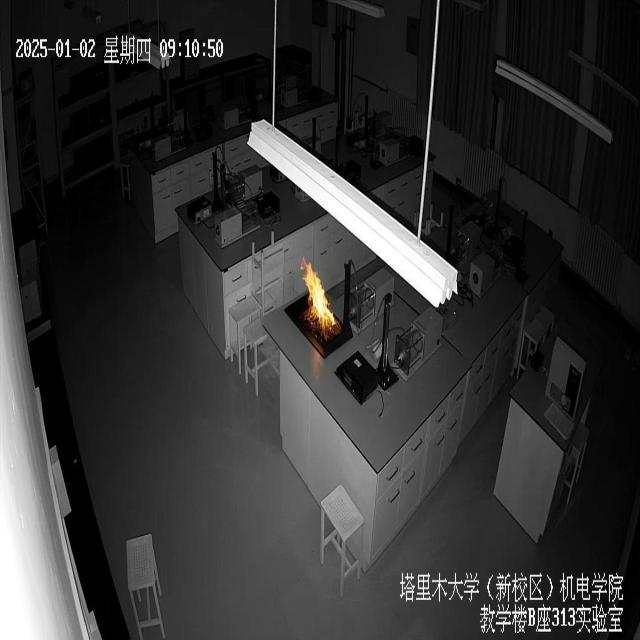smoke: (300, 256, 342, 336)
